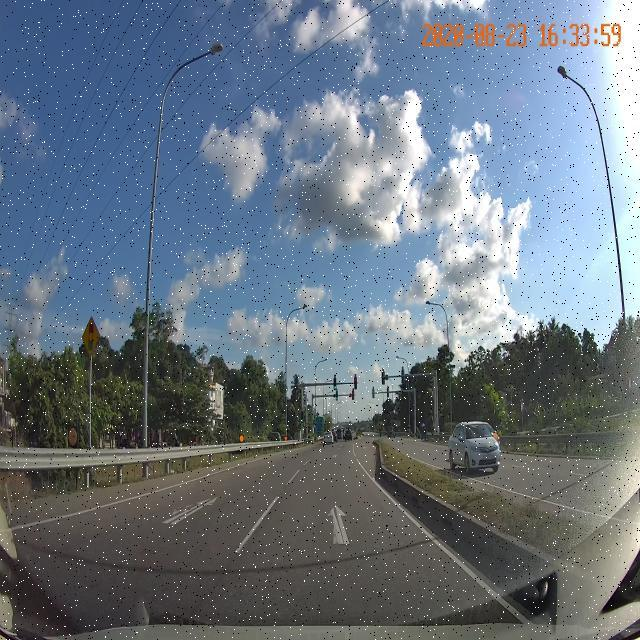forward: (233, 484, 449, 555)
